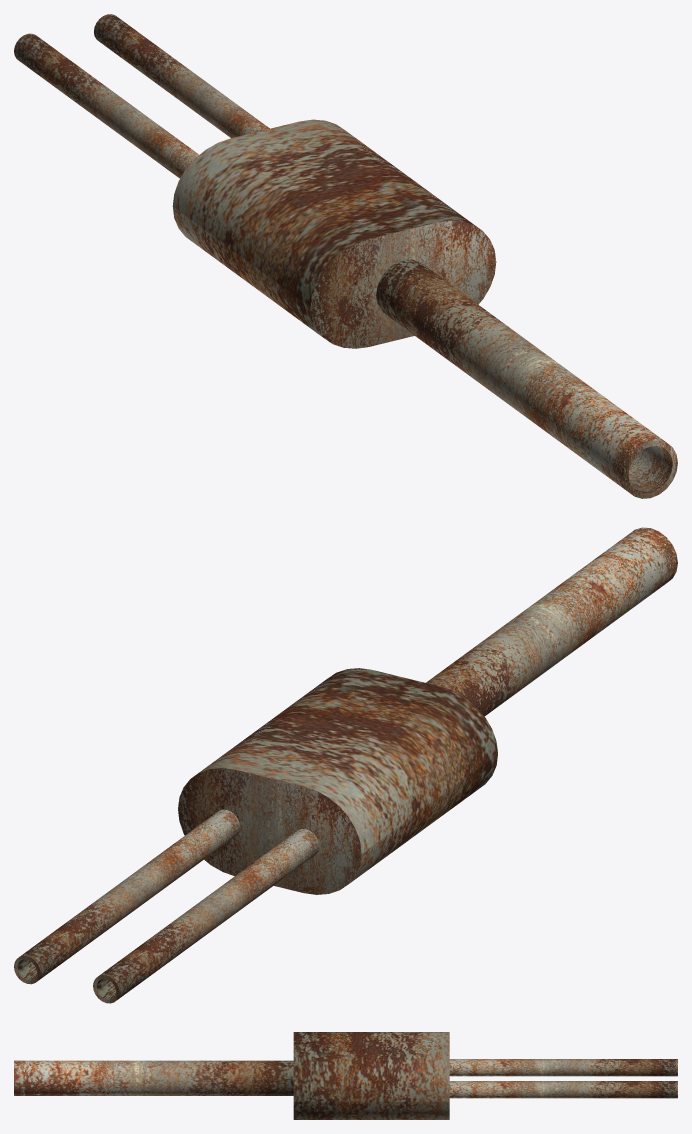
Rendered from enginepart2.fbx.
The picture shows the model from 3 angles, top to bottom: view 1: azimuth 30°, elevation 25°; view 2: azimuth 150°, elevation 25°; view 3: azimuth 270°, elevation 25°; orthographic projection. The views are drawn at different scales.
Visible parts, largest first — view 1: exhaustbody, exhaustenter, exhaustexit, exhaustexit1; view 2: exhaustbody, exhaustenter, exhaustexit1, exhaustexit; view 3: exhaustbody, exhaustenter, exhaustexit, exhaustexit1.
Part boxes in pixels (x1,y1,x2,y2): exhaustbody: [172, 119, 496, 348]; exhaustenter: [376, 259, 677, 498]; exhaustexit: [14, 33, 198, 178]; exhaustexit1: [94, 14, 269, 137]; exhaustbody: [178, 668, 497, 894]; exhaustenter: [426, 527, 677, 716]; exhaustexit1: [14, 809, 239, 984]; exhaustexit: [93, 829, 318, 1003]; exhaustbody: [293, 1032, 449, 1119]; exhaustenter: [14, 1060, 293, 1095]; exhaustexit: [449, 1059, 677, 1076]; exhaustexit1: [449, 1081, 677, 1098].
Size of the model in its own units: 120 by 66.65 by 657.
Materials: 1 (1 with a texture image).
